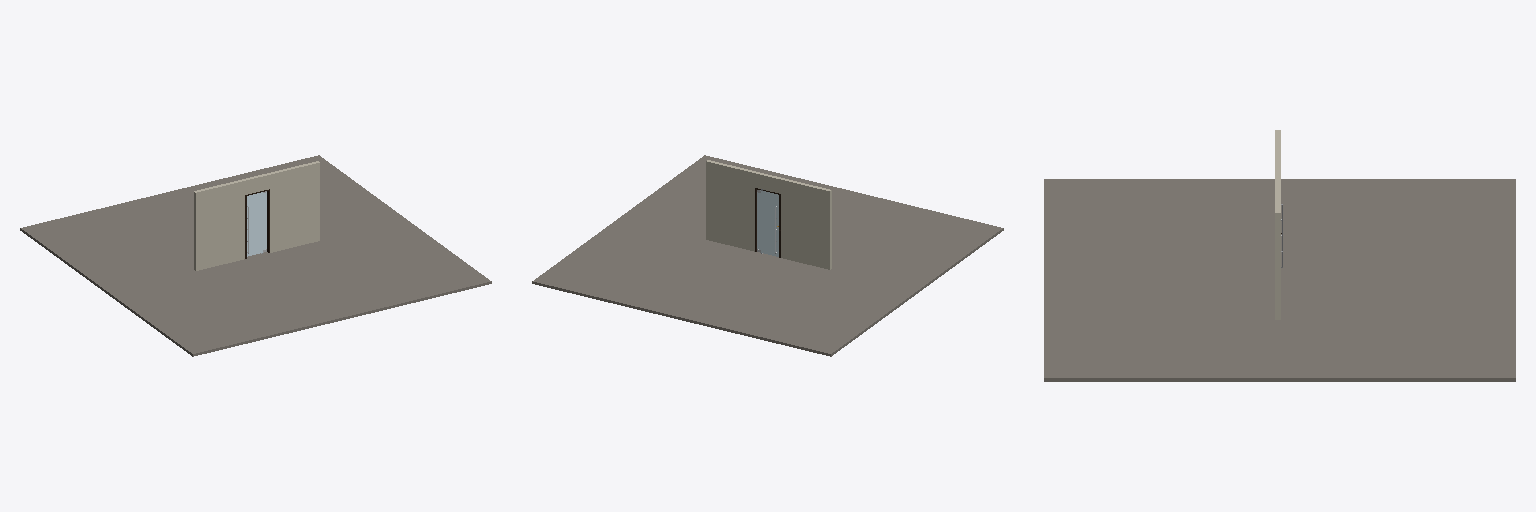
robot.urdf — db0161_pivot_simple:
<?xml version="1.0" ?>
<robot xmlns:doorbench="https://github.com/adamraudonis/DoorBench/schema/urdf-ext" name="db0161_pivot_simple">
  <link name="world_env">
    <visual name="floor_vis">
      <origin xyz="0 0 -0.05" rpy="0 0 0"/>
      <geometry>
        <box size="12 12 0.1"/>
      </geometry>
      <material name="mat_floor"/>
    </visual>
    <collision name="floor_col">
      <origin xyz="0 0 -0.05" rpy="0 0 0"/>
      <geometry>
        <box size="12 12 0.1"/>
      </geometry>
    </collision>
    <visual name="wall_left_vis">
      <origin xyz="-1.5155 -0.0595 1.506" rpy="0 0 0"/>
      <geometry>
        <box size="1.969 0.145 3.012"/>
      </geometry>
      <material name="mat_wall"/>
    </visual>
    <collision name="wall_left_col">
      <origin xyz="-1.5155 -0.0595 1.506" rpy="0 0 0"/>
      <geometry>
        <box size="1.969 0.145 3.012"/>
      </geometry>
    </collision>
    <visual name="wall_right_vis">
      <origin xyz="1.5005 -0.0595 1.506" rpy="0 0 0"/>
      <geometry>
        <box size="1.999 0.145 3.012"/>
      </geometry>
      <material name="mat_wall"/>
    </visual>
    <collision name="wall_right_col">
      <origin xyz="1.5005 -0.0595 1.506" rpy="0 0 0"/>
      <geometry>
        <box size="1.999 0.145 3.012"/>
      </geometry>
    </collision>
    <visual name="wall_header_vis">
      <origin xyz="-0.015 -0.0595 2.7495" rpy="0 0 0"/>
      <geometry>
        <box size="1.032 0.145 0.525"/>
      </geometry>
      <material name="mat_wall"/>
    </visual>
    <collision name="wall_header_col">
      <origin xyz="-0.015 -0.0595 2.7495" rpy="0 0 0"/>
      <geometry>
        <box size="1.032 0.145 0.525"/>
      </geometry>
    </collision>
    <visual name="pivot_bottom_socket_vis">
      <origin xyz="0.231 0 -0.002" rpy="0 0 0"/>
      <geometry>
        <box size="0.07 0.07 0.016"/>
      </geometry>
      <material name="mat_hinge"/>
    </visual>
    <visual name="pivot_top_bracket_vis">
      <origin xyz="0.231 0 2.4515" rpy="0 0 0"/>
      <geometry>
        <box size="0.07 0.07 0.071"/>
      </geometry>
      <material name="mat_hinge"/>
    </visual>
    <visual name="leaf_deadbolt_strike_b_vis">
      <origin xyz="-0.4555 0 1.1715" rpy="1.570796 0 1.570796"/>
      <geometry>
        <box size="0.031 0.006 0.001"/>
      </geometry>
      <material name="mat_deadbolt"/>
    </visual>
    <visual name="leaf_deadbolt_strike_l_vis">
      <origin xyz="-0.4555 -0.0125 1.19" rpy="1.570796 0 1.570796"/>
      <geometry>
        <box size="0.006 0.031 0.001"/>
      </geometry>
      <material name="mat_deadbolt"/>
    </visual>
    <visual name="leaf_deadbolt_strike_t_vis">
      <origin xyz="-0.4555 0 1.2085" rpy="1.570796 0 1.570796"/>
      <geometry>
        <box size="0.031 0.006 0.001"/>
      </geometry>
      <material name="mat_deadbolt"/>
    </visual>
    <visual name="leaf_deadbolt_strike_r_vis">
      <origin xyz="-0.4555 0.0125 1.19" rpy="1.570796 0 1.570796"/>
      <geometry>
        <box size="0.006 0.031 0.001"/>
      </geometry>
      <material name="mat_deadbolt"/>
    </visual>
    <visual name="jamb_hinge_vis">
      <origin xyz="0.4785 -0.0595 1.206" rpy="0 0 0"/>
      <geometry>
        <box size="0.045 0.145 2.412"/>
      </geometry>
      <material name="mat_frame"/>
    </visual>
    <collision name="jamb_hinge_col">
      <origin xyz="0.4785 -0.0595 1.206" rpy="0 0 0"/>
      <geometry>
        <box size="0.045 0.145 2.412"/>
      </geometry>
    </collision>
    <visual name="strike_1050_wall_n_vis">
      <origin xyz="-0.4935 -0.06925 1.05" rpy="0 0 0"/>
      <geometry>
        <box size="0.075 0.1255 0.03"/>
      </geometry>
      <material name="mat_frame"/>
    </visual>
    <collision name="strike_1050_wall_n_col">
      <origin xyz="-0.4935 -0.06925 1.05" rpy="0 0 0"/>
      <geometry>
        <box size="0.075 0.1255 0.03"/>
      </geometry>
    </collision>
    <visual name="strike_1050_wall_p_vis">
      <origin xyz="-0.4935 0.0145 1.05" rpy="0 0 0"/>
      <geometry>
        <box size="0.075 0.016 0.03"/>
      </geometry>
      <material name="mat_frame"/>
    </visual>
    <collision name="strike_1050_wall_p_col">
      <origin xyz="-0.4935 0.0145 1.05" rpy="0 0 0"/>
      <geometry>
        <box size="0.075 0.016 0.03"/>
      </geometry>
    </collision>
    <visual name="strike_1050_ramp_vis">
      <origin xyz="-0.497041 0.020729 1.05" rpy="0 0 0.463648"/>
      <geometry>
        <box size="0.075 0.033541 0.03"/>
      </geometry>
      <material name="mat_frame"/>
    </visual>
    <collision name="strike_1050_ramp_col">
      <origin xyz="-0.497041 0.020729 1.05" rpy="0 0 0.463648"/>
      <geometry>
        <box size="0.075 0.033541 0.03"/>
      </geometry>
    </collision>
    <visual name="strike_1050_back_vis">
      <origin xyz="-0.5025 0 1.05" rpy="0 0 0"/>
      <geometry>
        <box size="0.057 0.013 0.03"/>
      </geometry>
      <material name="mat_frame"/>
    </visual>
    <collision name="strike_1050_back_col">
      <origin xyz="-0.5025 0 1.05" rpy="0 0 0"/>
      <geometry>
        <box size="0.057 0.013 0.03"/>
      </geometry>
    </collision>
    <visual name="strike_1190_wall_n_vis">
      <origin xyz="-0.4935 -0.07075 1.19" rpy="0 0 0"/>
      <geometry>
        <box size="0.075 0.1225 0.031"/>
      </geometry>
      <material name="mat_frame"/>
    </visual>
    <collision name="strike_1190_wall_n_col">
      <origin xyz="-0.4935 -0.07075 1.19" rpy="0 0 0"/>
      <geometry>
        <box size="0.075 0.1225 0.031"/>
      </geometry>
    </collision>
    <visual name="strike_1190_wall_p_vis">
      <origin xyz="-0.4717 0.0125 1.19" rpy="0 0 0"/>
      <geometry>
        <box size="0.0314 0.006 0.031"/>
      </geometry>
      <material name="mat_frame"/>
    </visual>
    <collision name="strike_1190_wall_p_col">
      <origin xyz="-0.4717 0.0125 1.19" rpy="0 0 0"/>
      <geometry>
        <box size="0.0314 0.006 0.031"/>
      </geometry>
    </collision>
    <visual name="strike_1190_back_vis">
      <origin xyz="-0.5082 0 1.19" rpy="0 0 0"/>
      <geometry>
        <box size="0.0456 0.019 0.031"/>
      </geometry>
      <material name="mat_frame"/>
    </visual>
    <collision name="strike_1190_back_col">
      <origin xyz="-0.5082 0 1.19" rpy="0 0 0"/>
      <geometry>
        <box size="0.0456 0.019 0.031"/>
      </geometry>
    </collision>
    <visual name="jamb_strike_0_vis">
      <origin xyz="-0.4935 -0.0595 0.5175" rpy="0 0 0"/>
      <geometry>
        <box size="0.075 0.145 1.035"/>
      </geometry>
      <material name="mat_frame"/>
    </visual>
    <collision name="jamb_strike_0_col">
      <origin xyz="-0.4935 -0.0595 0.5175" rpy="0 0 0"/>
      <geometry>
        <box size="0.075 0.145 1.035"/>
      </geometry>
    </collision>
    <visual name="jamb_strike_1_vis">
      <origin xyz="-0.4935 -0.0595 1.11975" rpy="0 0 0"/>
      <geometry>
        <box size="0.075 0.145 0.1095"/>
      </geometry>
      <material name="mat_frame"/>
    </visual>
    <collision name="jamb_strike_1_col">
      <origin xyz="-0.4935 -0.0595 1.11975" rpy="0 0 0"/>
      <geometry>
        <box size="0.075 0.145 0.1095"/>
      </geometry>
    </collision>
    <visual name="jamb_strike_2_vis">
      <origin xyz="-0.4935 -0.0595 1.80875" rpy="0 0 0"/>
      <geometry>
        <box size="0.075 0.145 1.2065"/>
      </geometry>
      <material name="mat_frame"/>
    </visual>
    <collision name="jamb_strike_2_col">
      <origin xyz="-0.4935 -0.0595 1.80875" rpy="0 0 0"/>
      <geometry>
        <box size="0.075 0.145 1.2065"/>
      </geometry>
    </collision>
    <visual name="jamb_head_vis">
      <origin xyz="-0.015 -0.0595 2.4345" rpy="0 0 0"/>
      <geometry>
        <box size="1.032 0.145 0.045"/>
      </geometry>
      <material name="mat_frame"/>
    </visual>
    <collision name="jamb_head_col">
      <origin xyz="-0.015 -0.0595 2.4345" rpy="0 0 0"/>
      <geometry>
        <box size="1.032 0.145 0.045"/>
      </geometry>
    </collision>
    <visual name="head_stud_vis">
      <origin xyz="-0.015 -0.0595 2.472" rpy="0 0 0"/>
      <geometry>
        <box size="1.032 0.145 0.03"/>
      </geometry>
      <material name="mat_wall"/>
    </visual>
    <collision name="head_stud_col">
      <origin xyz="-0.015 -0.0595 2.472" rpy="0 0 0"/>
      <geometry>
        <box size="1.032 0.145 0.03"/>
      </geometry>
    </collision>
  </link>
  <link name="leaf">
    <inertial>
      <origin xyz="-0.5267 0 1.072613" rpy="0 0 0"/>
      <mass value="75.605545"/>
      <inertia ixx="23.064455976" ixy="0" ixz="-0.504884963" iyy="24.589223657" iyz="0" izz="2.152329513"/>
    </inertial>
    <visual name="leaf_glass_vis">
      <origin xyz="-0.231 0 1.208" rpy="0 0 0"/>
      <geometry>
        <box size="0.9 0.012 2.4"/>
      </geometry>
      <material name="mat_glass_leaf"/>
    </visual>
    <collision name="leaf_glass_col">
      <origin xyz="-0.231 0 1.208" rpy="0 0 0"/>
      <geometry>
        <box size="0.9 0.012 2.4"/>
      </geometry>
    </collision>
    <visual name="leaf_patch_bot_vis">
      <origin xyz="0.139 0 0.068" rpy="0 0 0"/>
      <geometry>
        <box size="0.16 0.028 0.1"/>
      </geometry>
      <material name="mat_patch"/>
    </visual>
    <visual name="leaf_patch_top_vis">
      <origin xyz="0.139 0 2.348" rpy="0 0 0"/>
      <geometry>
        <box size="0.16 0.028 0.1"/>
      </geometry>
      <material name="mat_patch"/>
    </visual>
    <visual name="leaf_pull_n_vis">
      <origin xyz="-0.576 -0.006 1.05" rpy="-1.570796 0 3.141593"/>
      <geometry>
        <mesh filename="../../hardware/pull_897e207f65.obj"/>
      </geometry>
      <material name="mat_op_stainless"/>
    </visual>
    <collision name="leaf_pull_col_n_col">
      <origin xyz="-0.576 -0.071 1.05" rpy="0 0 0"/>
      <geometry>
        <cylinder radius="0.016" length="1.76"/>
      </geometry>
    </collision>
    <visual name="leaf_pull_p_vis">
      <origin xyz="-0.576 0.006 1.05" rpy="1.570796 0 3.141593"/>
      <geometry>
        <mesh filename="../../hardware/pull_897e207f65.obj"/>
      </geometry>
      <material name="mat_op_stainless"/>
    </visual>
    <collision name="leaf_pull_col_p_col">
      <origin xyz="-0.576 0.071 1.05" rpy="0 0 0"/>
      <geometry>
        <cylinder radius="0.016" length="1.76"/>
      </geometry>
    </collision>
    <visual name="leaf_latch_bolt_faceplate_vis">
      <origin xyz="-0.6804 0 1.05" rpy="0 0 0"/>
      <geometry>
        <box size="0.0012 0.008 0.05"/>
      </geometry>
      <material name="mat_bolt"/>
    </visual>
    <visual name="leaf_deadbolt_faceplate_vis">
      <origin xyz="-0.6804 0 1.19" rpy="0 0 0"/>
      <geometry>
        <box size="0.0012 0.008 0.049"/>
      </geometry>
      <material name="mat_deadbolt"/>
    </visual>
  </link>
  <link name="leaf_latch_bolt">
    <inertial>
      <origin xyz="0.008 0 0" rpy="0 0 0"/>
      <mass value="0.027149"/>
      <inertia ixx="0.000000328" ixy="0" ixz="0" iyy="0.000003943" iyz="0" izz="0.000003943"/>
    </inertial>
    <visual name="leaf_latch_bolt_capsule_vis">
      <origin xyz="0.008 0 0" rpy="0 -1.570796 0"/>
      <geometry>
        <cylinder radius="0.005" length="0.034"/>
      </geometry>
      <material name="mat_bolt"/>
    </visual>
    <collision name="leaf_latch_bolt_capsule_col">
      <origin xyz="0.008 0 0" rpy="0 -1.570796 0"/>
      <geometry>
        <cylinder radius="0.005" length="0.034"/>
      </geometry>
    </collision>
  </link>
  <link name="leaf_deadbolt">
    <inertial>
      <origin xyz="0.0277 0 0" rpy="0 0 0"/>
      <mass value="0.18836"/>
      <inertia ixx="0.000013829" ixy="0" ixz="0" iyy="0.000057986" iyz="0" izz="0.000052194"/>
    </inertial>
    <visual name="leaf_deadbolt_box_vis">
      <origin xyz="0.0277 0 0" rpy="0 0 0"/>
      <geometry>
        <box size="0.0554 0.016 0.025"/>
      </geometry>
      <material name="mat_deadbolt"/>
    </visual>
    <collision name="leaf_deadbolt_box_col">
      <origin xyz="0.0277 0 0" rpy="0 0 0"/>
      <geometry>
        <box size="0.0554 0.016 0.025"/>
      </geometry>
    </collision>
  </link>
  <link name="leaf_deadbolt_thumbturn">
    <inertial>
      <origin xyz="0 0.012928 0" rpy="0 0 0"/>
      <mass value="0.178946"/>
      <inertia ixx="0.000026215" ixy="0" ixz="0" iyy="0.000026045" iyz="0" izz="0.000032438"/>
    </inertial>
    <visual name="leaf_deadbolt_thumbturn_mesh_vis">
      <origin xyz="0 0 0" rpy="-1.570796 1.570793 0"/>
      <geometry>
        <mesh filename="../../hardware/thumbturn_eb5c9899a3.obj"/>
      </geometry>
      <material name="mat_deadbolt"/>
    </visual>
    <collision name="leaf_deadbolt_thumbturn_mesh_col">
      <origin xyz="0 0 0" rpy="-1.570796 1.570793 0"/>
      <geometry>
        <mesh filename="../../hardware/thumbturn_eb5c9899a3.obj"/>
      </geometry>
    </collision>
    <collision name="leaf_deadbolt_thumbturn_col_col">
      <origin xyz="0 0.02 0" rpy="3.141593 -1.570793 3.141593"/>
      <geometry>
        <box size="0.012 0.024 0.032"/>
      </geometry>
    </collision>
  </link>
  <joint name="leaf_hinge" type="revolute">
    <origin xyz="0.231 0 0" rpy="0 0 0"/>
    <parent link="world_env"/>
    <child link="leaf"/>
    <axis xyz="0 0 -1"/>
    <limit lower="0" upper="1.570796" effort="2000" velocity="10"/>
    <dynamics damping="0.33438" friction="1.61549"/>
    <doorbench:closer damping_closing="0" damping_opening="0" backcheck_angle="0" backcheck_damping="0"/>
  </joint>
  <joint name="leaf_latch_bolt_slide" type="prismatic">
    <origin xyz="-0.681 0 1.05" rpy="0 0 0"/>
    <parent link="leaf"/>
    <child link="leaf_latch_bolt"/>
    <axis xyz="1 0 0"/>
    <limit lower="0" upper="0.014" effort="5000" velocity="10"/>
    <dynamics damping="2" friction="0.3"/>
    <doorbench:spring stiffness="400" springref="-0.01" note="tau = -stiffness*(q - springref); not native URDF"/>
  </joint>
  <joint name="leaf_deadbolt_slide" type="prismatic">
    <origin xyz="-0.681 0 1.19" rpy="0 0 0"/>
    <parent link="leaf"/>
    <child link="leaf_deadbolt"/>
    <axis xyz="1 0 0"/>
    <doorbench:zero_offset value="0.0254" note="URDF q=0 is the spec initial state; DoorBench q = urdf_q + value"/>
    <limit lower="-0.0254" upper="0" effort="5000" velocity="10"/>
    <dynamics damping="5" friction="1.5"/>
    <mimic joint="leaf_deadbolt_thumbturn_hinge" multiplier="0.01617" offset="0"/>
  </joint>
  <joint name="leaf_deadbolt_thumbturn_hinge" type="revolute">
    <origin xyz="-0.616 0.006 1.19" rpy="0 0 0"/>
    <parent link="leaf"/>
    <child link="leaf_deadbolt_thumbturn"/>
    <axis xyz="0 -1 0"/>
    <doorbench:zero_offset value="1.5708" note="URDF q=0 is the spec initial state; DoorBench q = urdf_q + value"/>
    <limit lower="-1.5708" upper="0" effort="2000" velocity="10"/>
    <dynamics damping="0.05" friction="0.3"/>
  </joint>
  <material name="mat_bolt">
    <color rgba="0.75 0.76 0.77 1"/>
  </material>
  <material name="mat_deadbolt">
    <color rgba="0.85 0.66 0.3 1"/>
  </material>
  <material name="mat_floor">
    <color rgba="0.55 0.53 0.5 1"/>
  </material>
  <material name="mat_frame">
    <color rgba="0.22 0.17 0.13 1"/>
  </material>
  <material name="mat_glass_leaf">
    <color rgba="0.85 0.92 0.95 0.25"/>
  </material>
  <material name="mat_hinge">
    <color rgba="0.65 0.66 0.68 1"/>
  </material>
  <material name="mat_op_stainless">
    <color rgba="0.75 0.76 0.77 1"/>
  </material>
  <material name="mat_patch">
    <color rgba="0.75 0.76 0.77 1"/>
  </material>
  <material name="mat_wall">
    <color rgba="0.78 0.76 0.7 1"/>
  </material>
</robot>

--- Render facts (derived) ---
3 views of the same robot in one strip: view 1: azimuth 30°, elevation 25°; view 2: azimuth 150°, elevation 25°; view 3: azimuth 270°, elevation 25° (orthographic).
Robot: db0161_pivot_simple — 5 links, 4 joints (2 revolute, 2 prismatic); root link world_env; default pose: every joint at zero.
Links seen in each view (by area): view 1: world_env, leaf; view 2: world_env, leaf; view 3: world_env.
Boxes of the visible links, <box> form: world_env: <box>20,155,491,356</box>; leaf: <box>247,191,266,256</box>; world_env: <box>532,155,1003,356</box>; leaf: <box>757,190,778,256</box>; world_env: <box>1044,130,1515,381</box>.
Size in the robot's own frame: 12 by 12 by 3.11 metres.
Meshes: 2 distinct files referenced, 3 mesh visuals loaded (2 OBJ).
